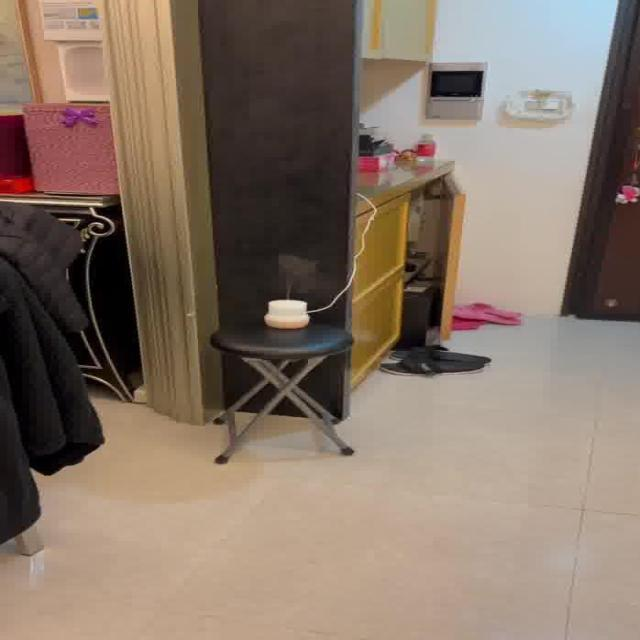fire: (264, 247, 326, 293)
